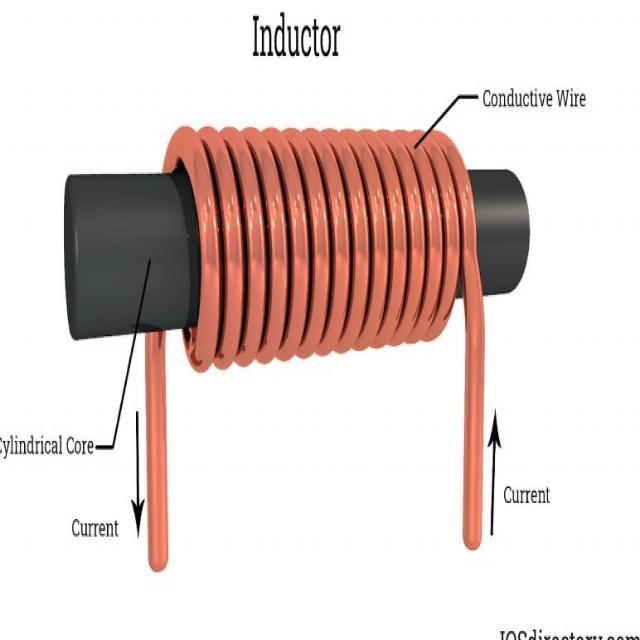Inductor: (65, 128, 529, 482)
